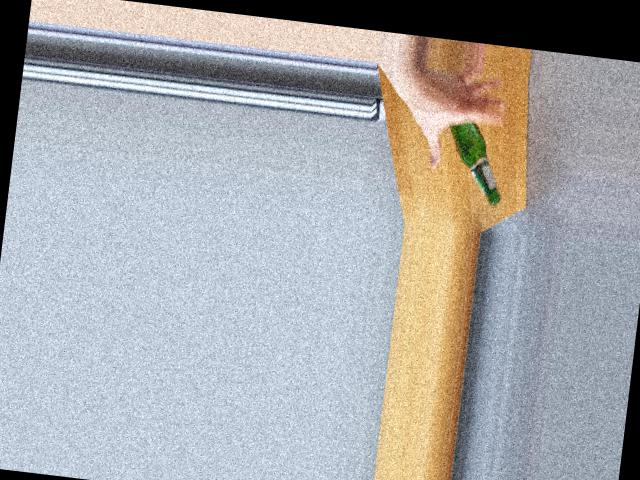beer: (440, 120, 508, 207)
